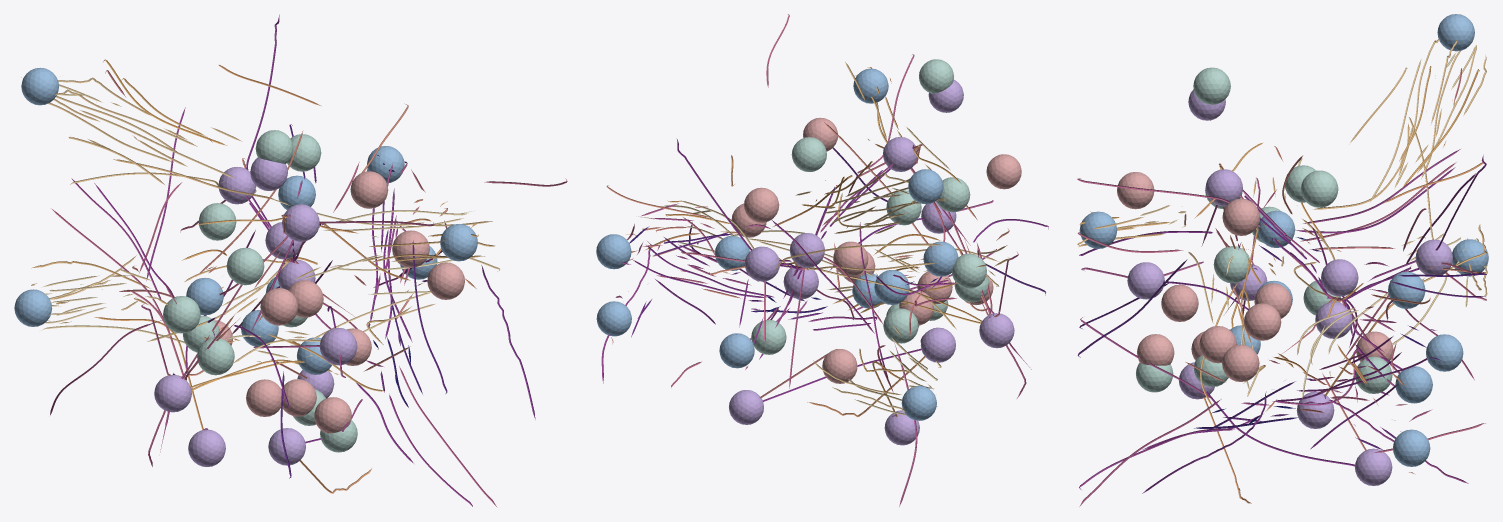
The picture shows the model from 3 angles, left to right: view 1: azimuth 30°, elevation 25°; view 2: azimuth 150°, elevation 25°; view 3: azimuth 270°, elevation 25°; orthographic projection. The views are drawn at different scales.
Visible parts, largest first — view 1: world; view 2: world; view 3: world.
Part boxes in pixels (box(x1,y1,x2,y2)): world: box(14, 14, 567, 507); world: box(596, 14, 1048, 506); world: box(1077, 14, 1488, 506).
Bounding box in the file's own units: 214 × 205 × 197.
